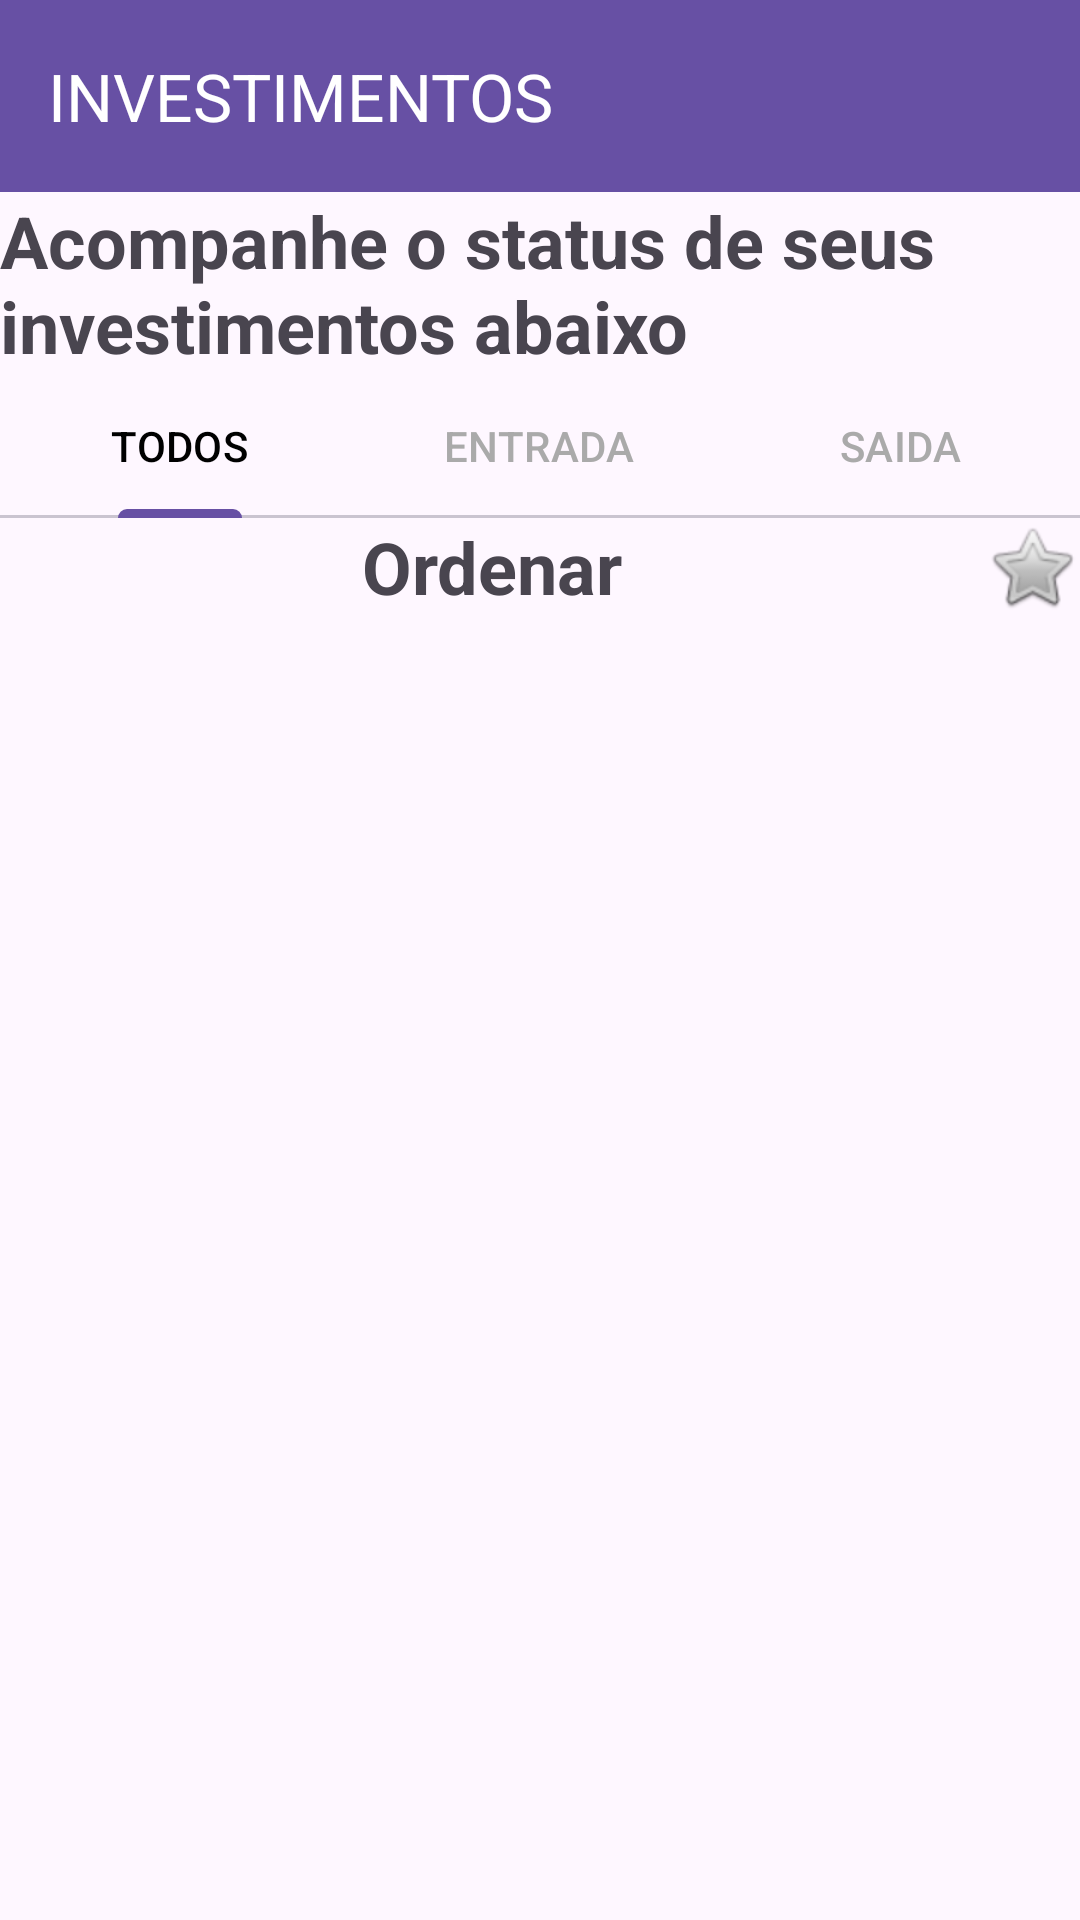

Where to tap for icons on this 1080 × 1920 app screen, as (x,y):
star: (1033,568)
